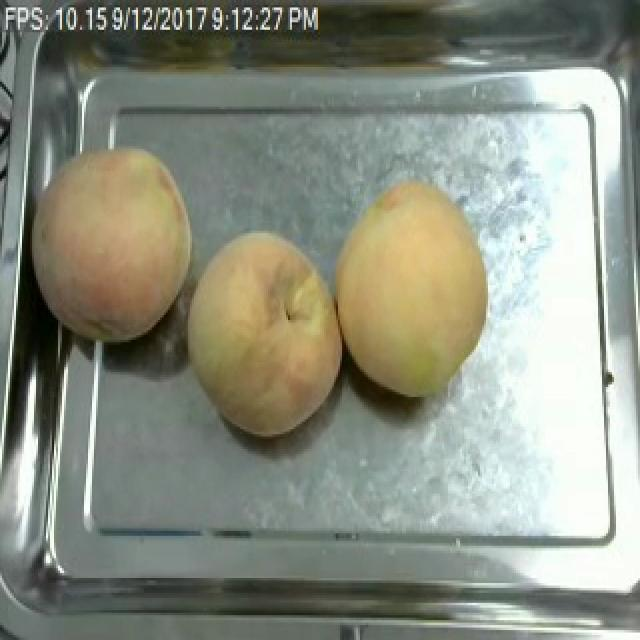Fruit: (22, 132, 204, 352), (174, 221, 352, 444), (330, 176, 496, 404)
